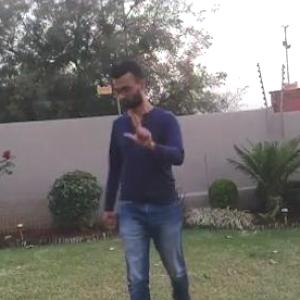land_hand: (126, 109, 156, 146)
